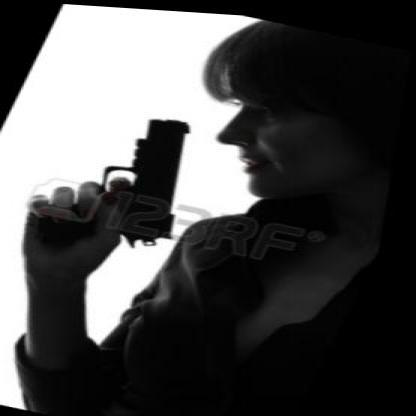pistol: (5, 84, 237, 266)
